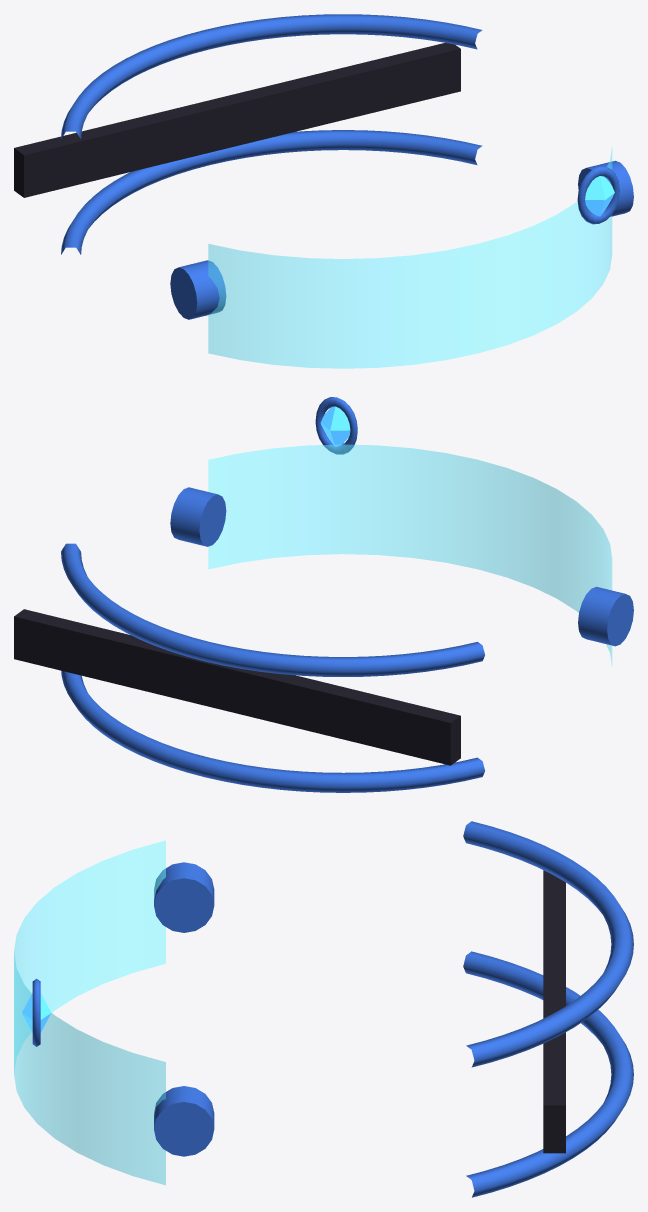
The model's file is gl_eqgw1.glb.
The picture shows the model from 3 angles, top to bottom: view 1: azimuth 30°, elevation 25°; view 2: azimuth 150°, elevation 25°; view 3: azimuth 270°, elevation 25°; orthographic projection. The views are drawn at different scales.
Size of the model in its own units: 2.31 by 0.7857 by 2.53.
